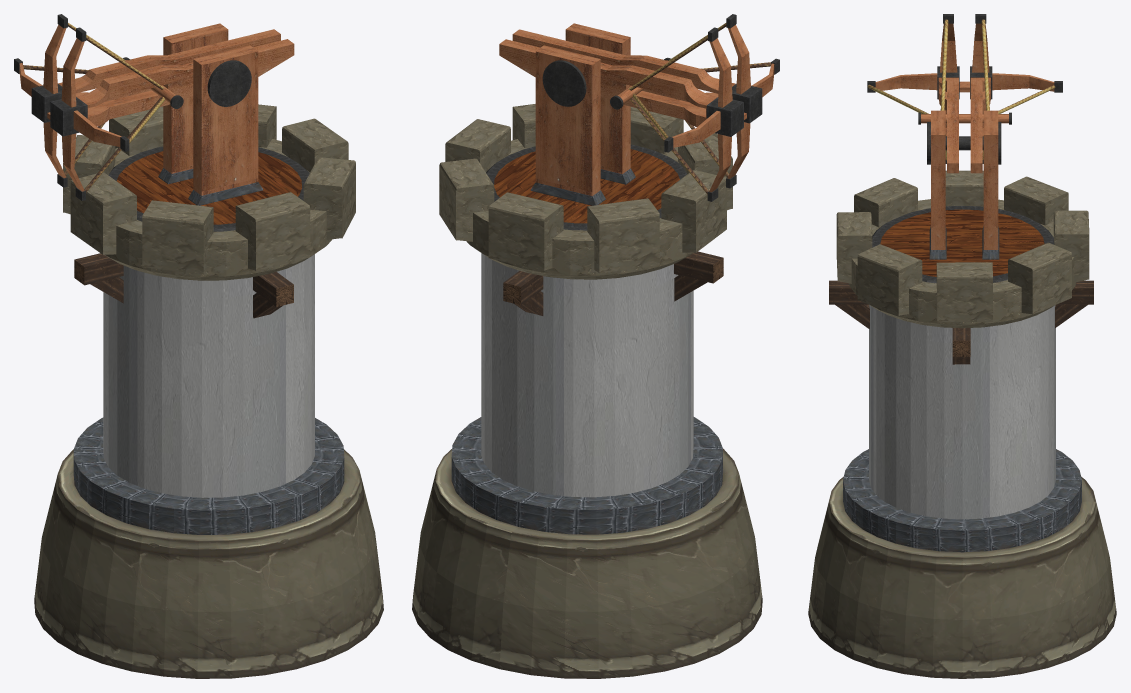
File: torre2.fbx
3 renders of one model, left to right at view 1: azimuth 30°, elevation 25°; view 2: azimuth 150°, elevation 25°; view 3: azimuth 270°, elevation 25°, orthographic. The views are drawn at different scales.
Visible parts, largest first — view 1: Cylinder, Cube.002, Cylinder.006, Cube, Cylinder.001, Cylinder.005, Cylinder.003; view 2: Cylinder, Cube.002, Cylinder.006, Cube, Cylinder.001, Cylinder.002, Cylinder.007; view 3: Cylinder, Cube.002, Cylinder.006, Cylinder.001, Cube, Cylinder.005, Cylinder.007, Cylinder.004.
Part boxes in pixels (bbox=[...]): Cylinder: bbox=[34, 139, 383, 678]; Cube.002: bbox=[63, 104, 355, 274]; Cylinder.006: bbox=[14, 14, 294, 200]; Cube: bbox=[158, 23, 263, 205]; Cylinder.001: bbox=[108, 146, 309, 231]; Cylinder.005: bbox=[253, 272, 293, 318]; Cylinder.003: bbox=[75, 260, 123, 303]; Cylinder: bbox=[412, 139, 762, 678]; Cube.002: bbox=[439, 104, 732, 273]; Cylinder.006: bbox=[499, 14, 779, 201]; Cube: bbox=[530, 23, 635, 205]; Cylinder.001: bbox=[486, 144, 686, 230]; Cylinder.002: bbox=[674, 251, 723, 301]; Cylinder.007: bbox=[503, 271, 543, 315]; Cylinder: bbox=[808, 199, 1116, 678]; Cube.002: bbox=[836, 170, 1089, 322]; Cylinder.006: bbox=[867, 14, 1062, 173]; Cylinder.001: bbox=[872, 206, 1054, 283]; Cube: bbox=[929, 110, 999, 259]; Cylinder.005: bbox=[829, 280, 869, 328]; Cylinder.007: bbox=[1055, 280, 1093, 327]; Cylinder.004: bbox=[952, 328, 970, 364].
Bounding box in the file's own units: 221 × 415 × 215.
